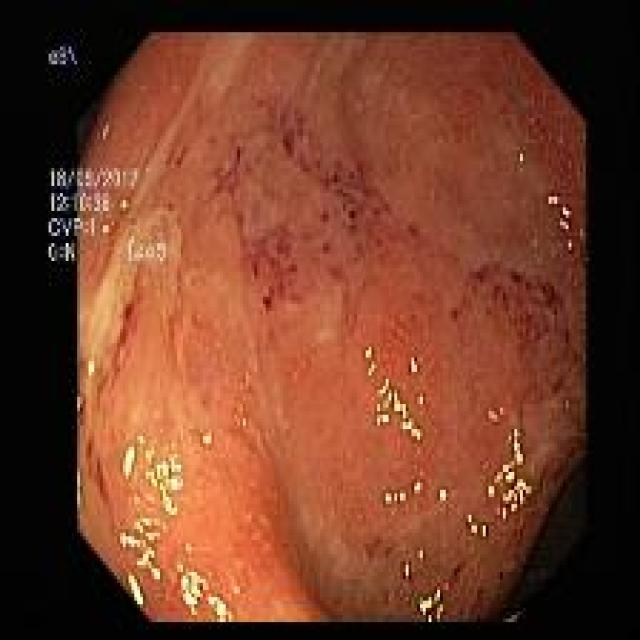ulcerative-colitis: (75, 33, 585, 622)
